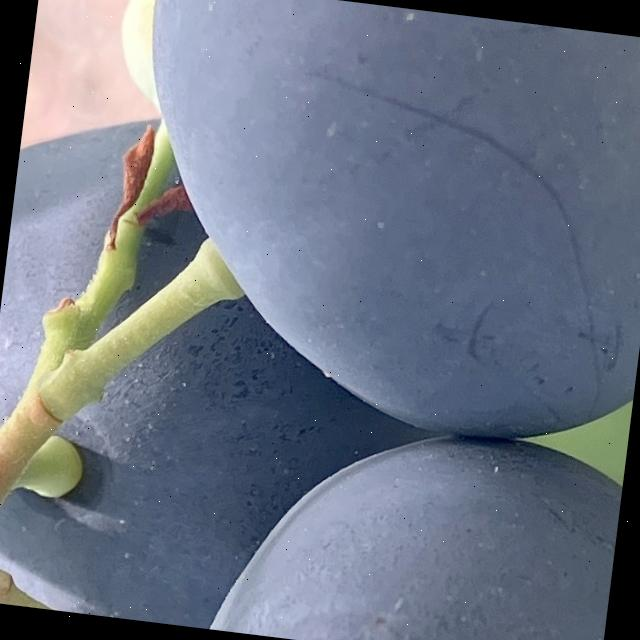Blueberries: (87, 0, 640, 460), (174, 404, 625, 640)
